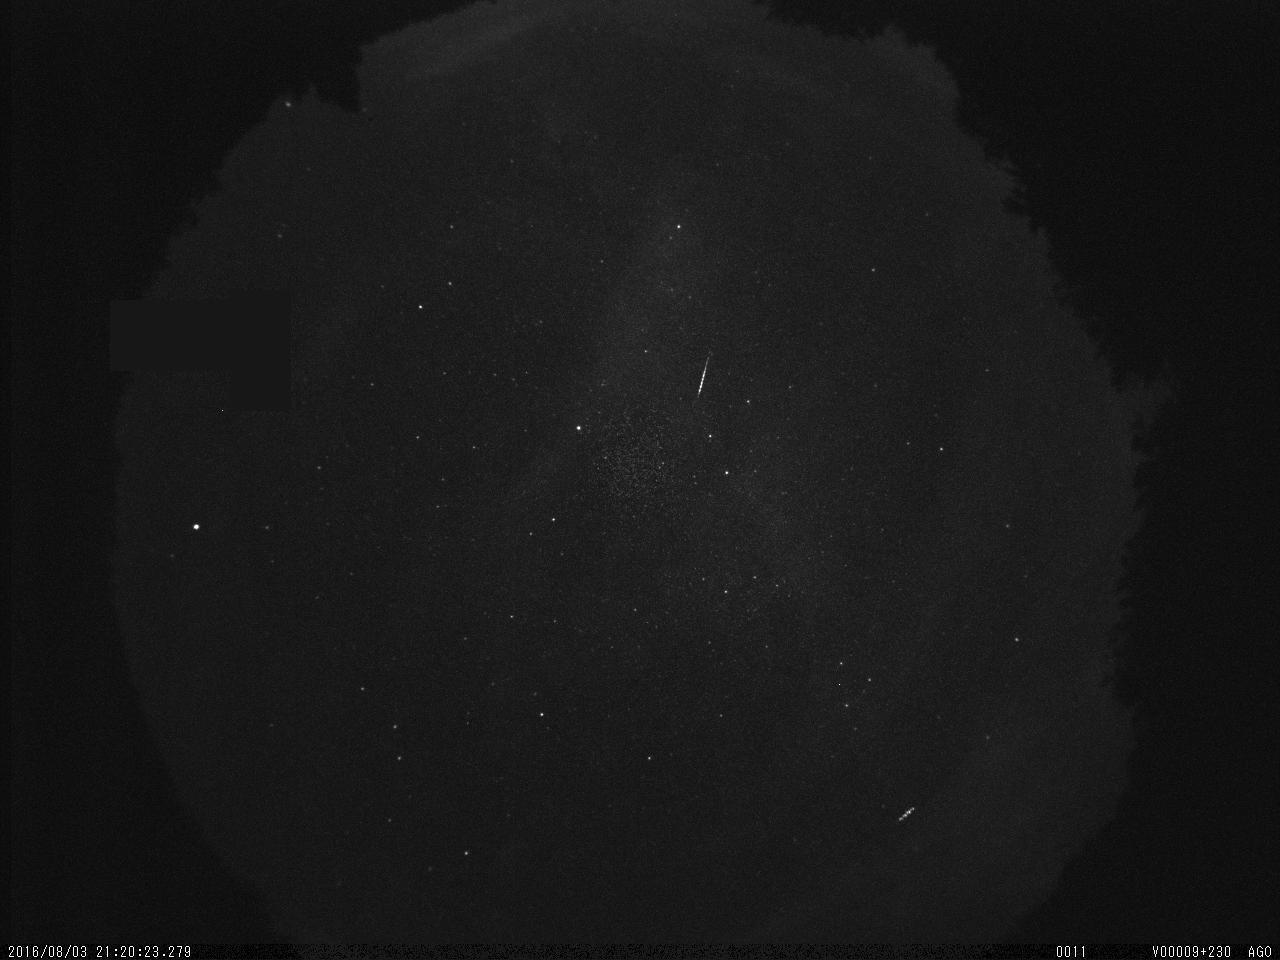meteor: (689, 343, 719, 407)
